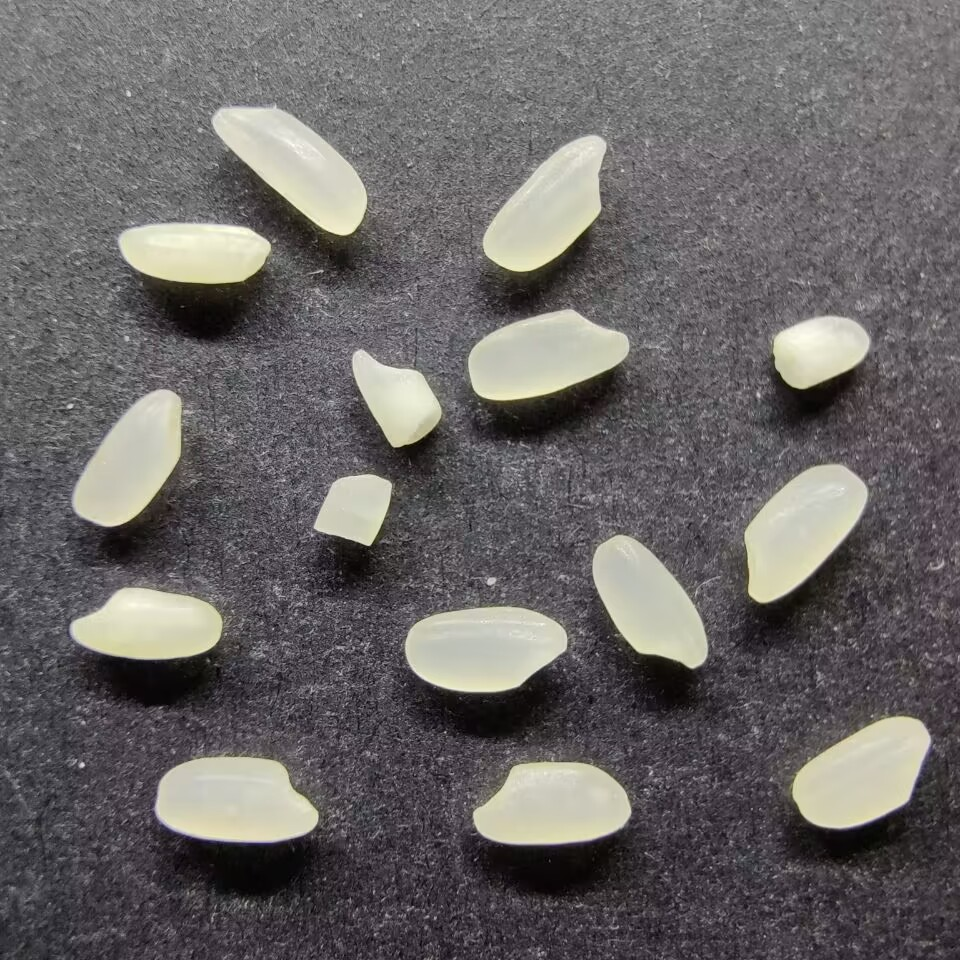broken: (350, 346, 443, 448), (772, 315, 873, 390), (313, 473, 393, 548)
rice: (210, 104, 368, 236), (480, 132, 609, 274), (741, 461, 868, 605), (589, 533, 711, 672), (69, 385, 185, 529), (789, 715, 932, 830), (465, 307, 631, 402), (152, 754, 320, 844), (402, 604, 569, 694), (471, 759, 633, 847), (67, 585, 223, 661), (116, 221, 272, 285)
